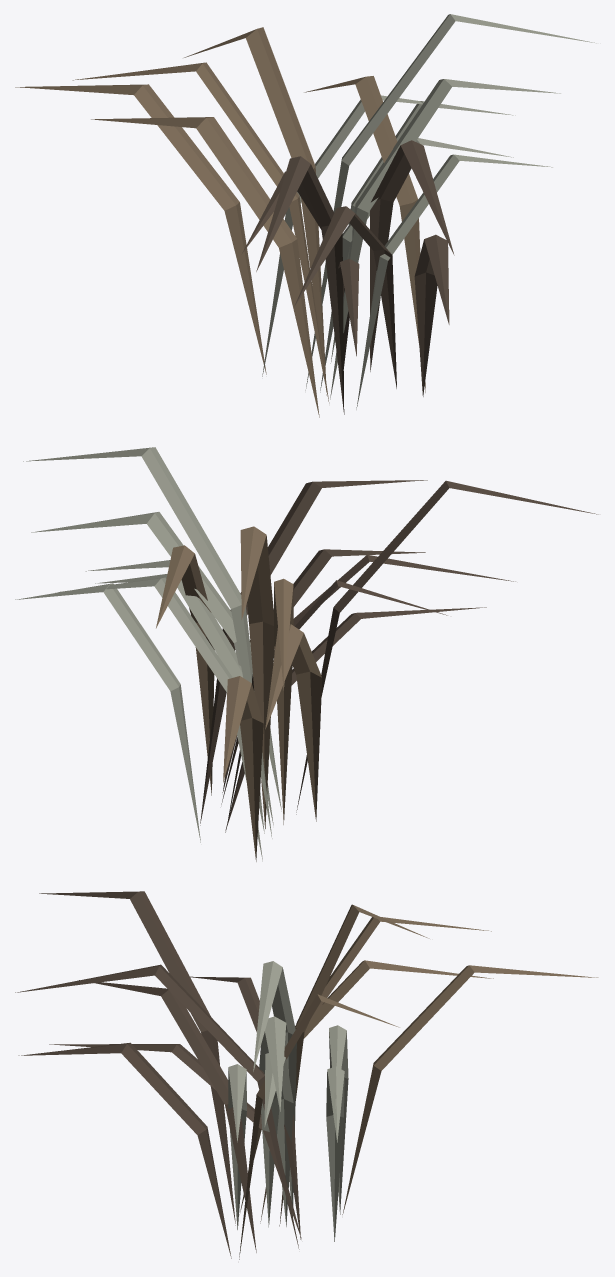
The model's file is ASH_GRASS_CLUMP.lo.glb.
3 views of the same model, one above another, from view 1: azimuth 30°, elevation 25°; view 2: azimuth 150°, elevation 25°; view 3: azimuth 270°, elevation 25° (orthographic). The views are drawn at different scales.
Visible parts, largest first — view 1: ASH_GRASS_CLUMP; view 2: ASH_GRASS_CLUMP; view 3: ASH_GRASS_CLUMP.
Boxes of the visible parts, x1,y1,x2,y2 form: ASH_GRASS_CLUMP: (15, 14, 596, 417); ASH_GRASS_CLUMP: (15, 447, 598, 861); ASH_GRASS_CLUMP: (15, 891, 598, 1259).
Bounding box in the file's own units: 0.4929 × 0.3599 × 0.5967.
Materials: 1 (1 with a texture image).
